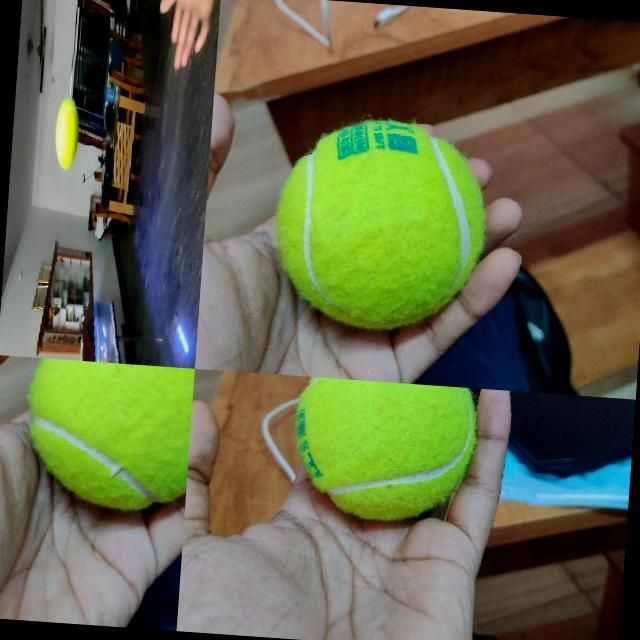Tennis Ball: (271, 114, 491, 335), (290, 376, 478, 525), (20, 357, 194, 512), (53, 96, 81, 170)
